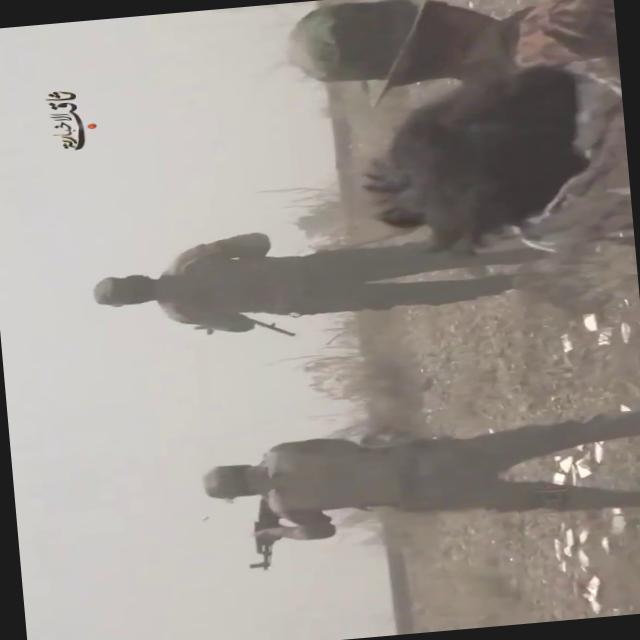long weapon: (240, 480, 308, 578)
